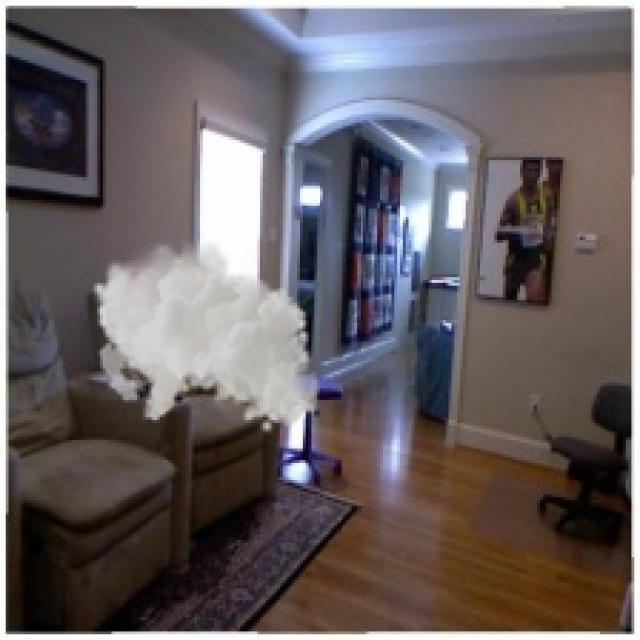Smoke: (91, 235, 320, 434)
